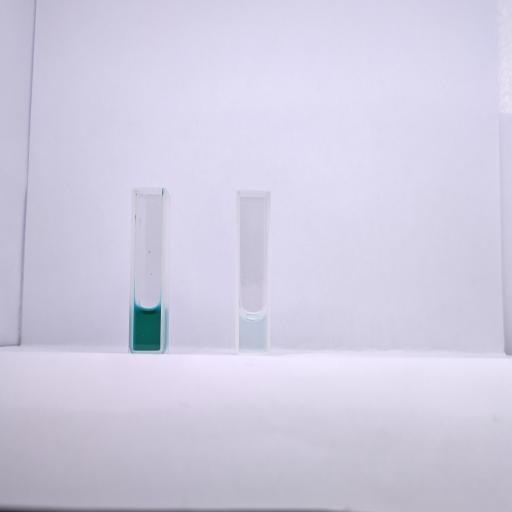cuvette: (127, 185, 168, 356), (234, 188, 272, 357)
liquid: (134, 305, 161, 351), (239, 309, 266, 352)
